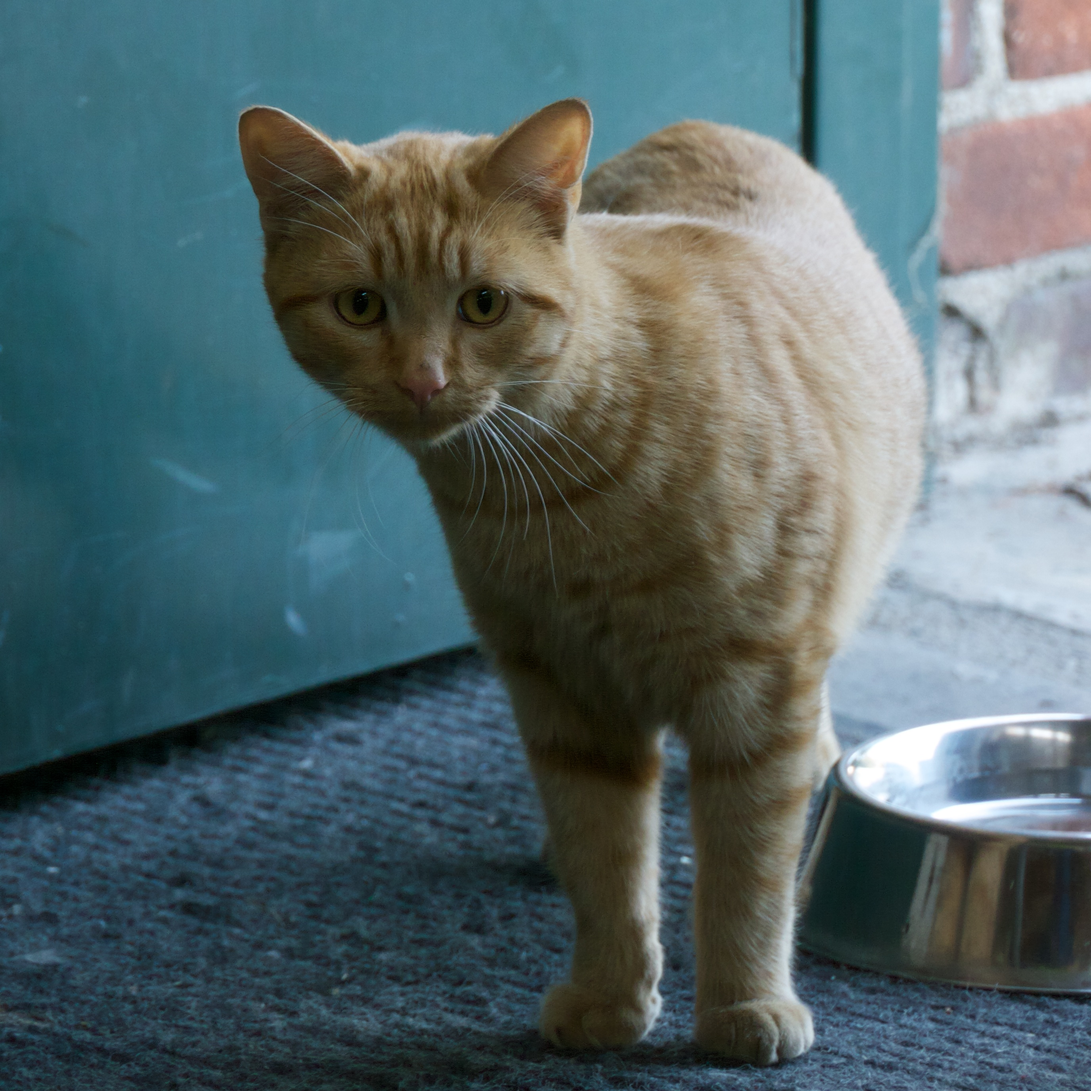cat: (229, 95, 943, 1071)
